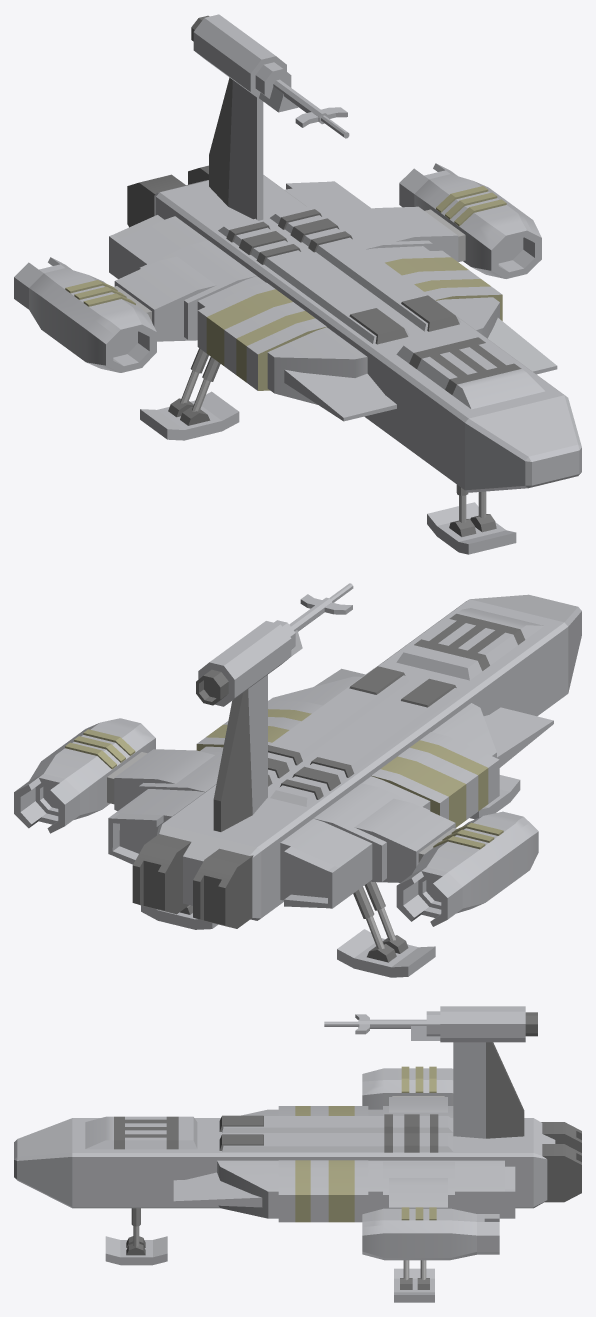
The model's file is Spaceship_With_Stand.fbx.
3 renders of one model, top to bottom at view 1: azimuth 30°, elevation 25°; view 2: azimuth 150°, elevation 25°; view 3: azimuth 270°, elevation 25°, orthographic. The views are drawn at different scales.
Parts seen in each view (by area): view 1: Space_Ship_Comb; view 2: Space_Ship_Comb; view 3: Space_Ship_Comb.
Boxes of the visible parts, box(x1,y1,x2,y2) form: Space_Ship_Comb: box(14, 14, 581, 554); Space_Ship_Comb: box(14, 583, 581, 977); Space_Ship_Comb: box(14, 1006, 581, 1302).
Bounding box in the file's own units: 1455 × 1031 × 2143.
